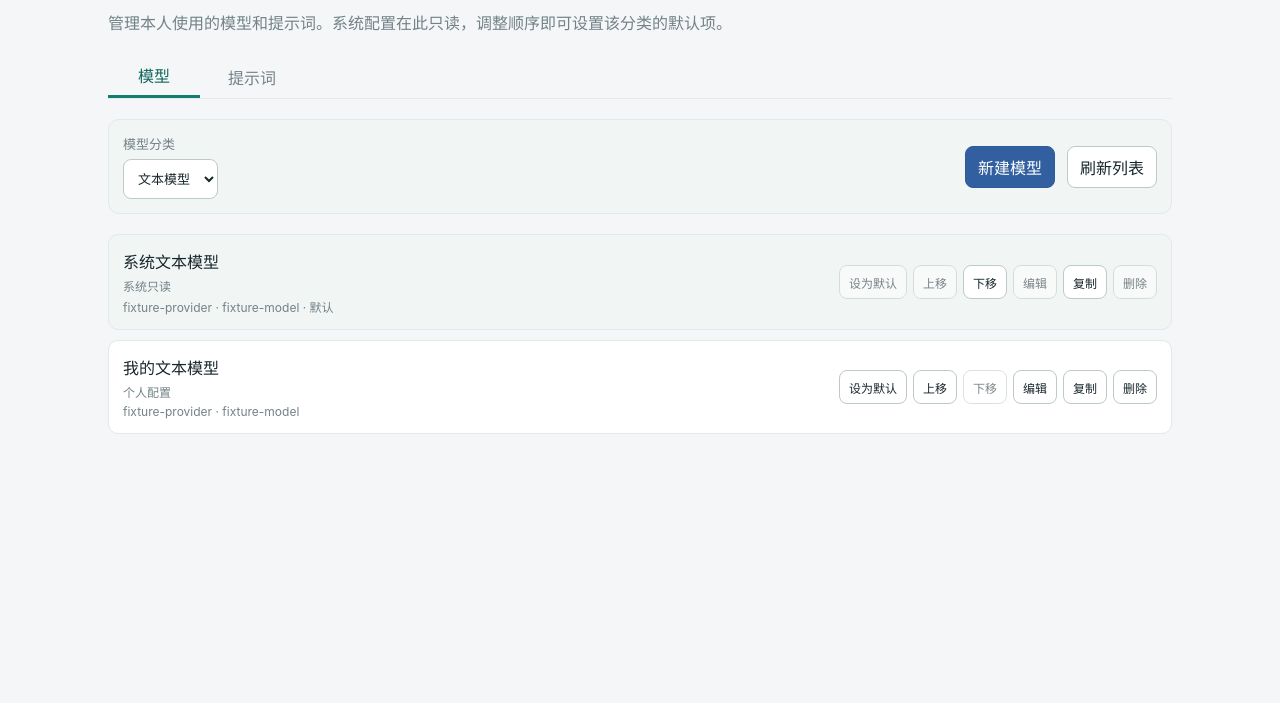
Test: creator settings › keeps system and other-user models read-only and sends only changed fields
expect the text "我的文本模型" is shown: met, box [123,358,219,378]
expect the text "系统文本模型" is shown: met, box [123,252,219,272]
Click the button "编辑" in the row of "我的文本模型" at (1035, 387), box [1013,370,1057,404]
(page scrolled)
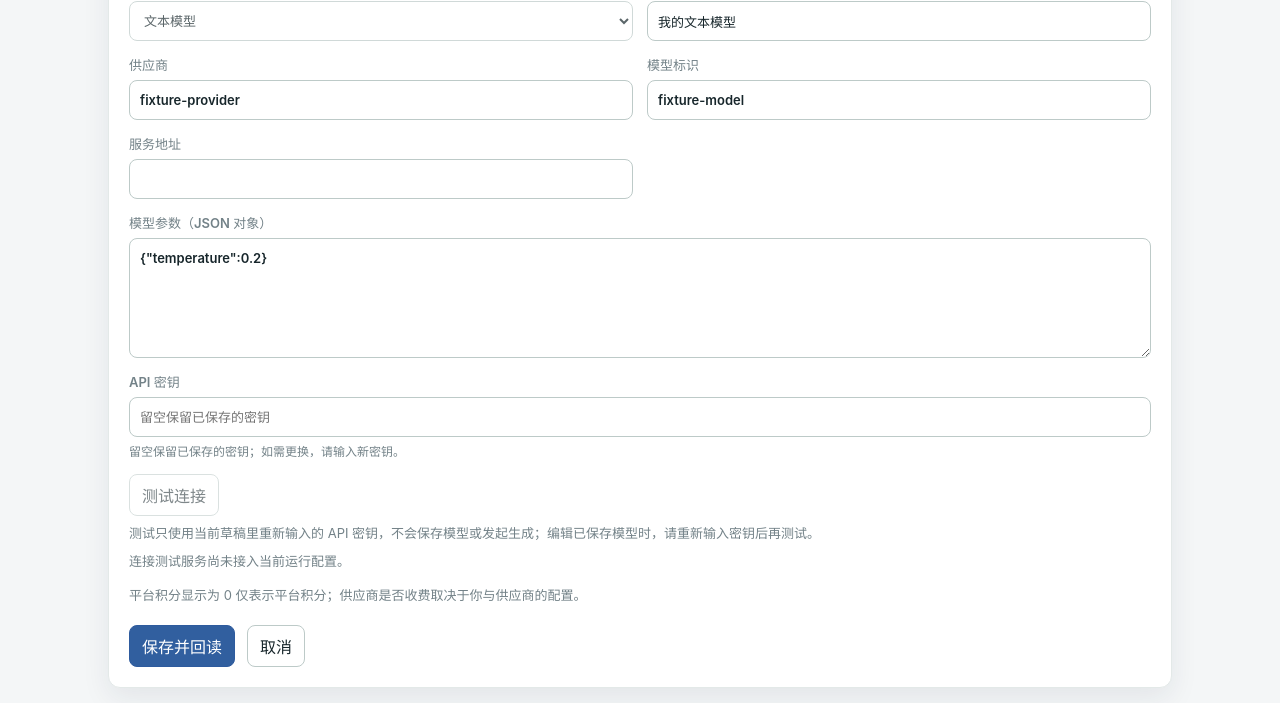
expect the password field labelled "API 密钥" is empty: met, box [129,397,1151,437]
Click the button "保存并回读" at (182, 646), box [129,625,235,667]
(page scrolled)
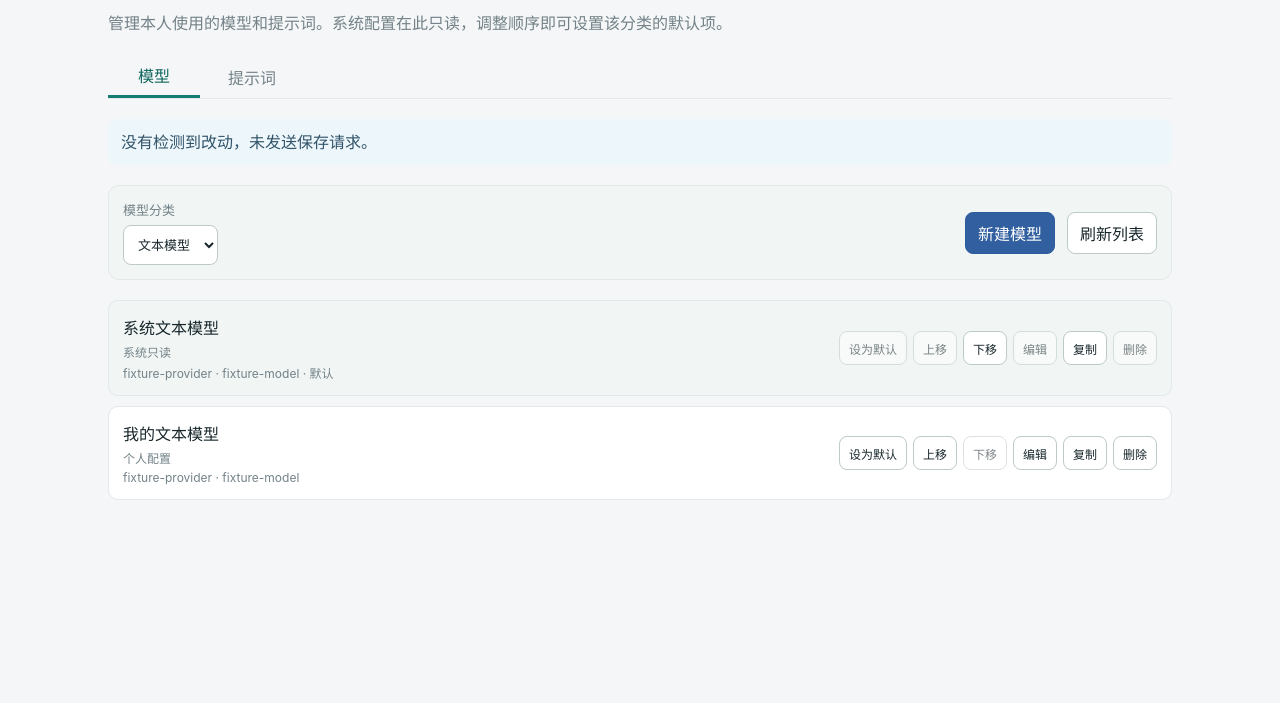
expect the text "没有检测到改动，未发送保存请求。" is shown: met, box [108,119,1172,165]
Click the button "编辑" in the row of "我的文本模型" at (1035, 453), box [1013,436,1057,470]
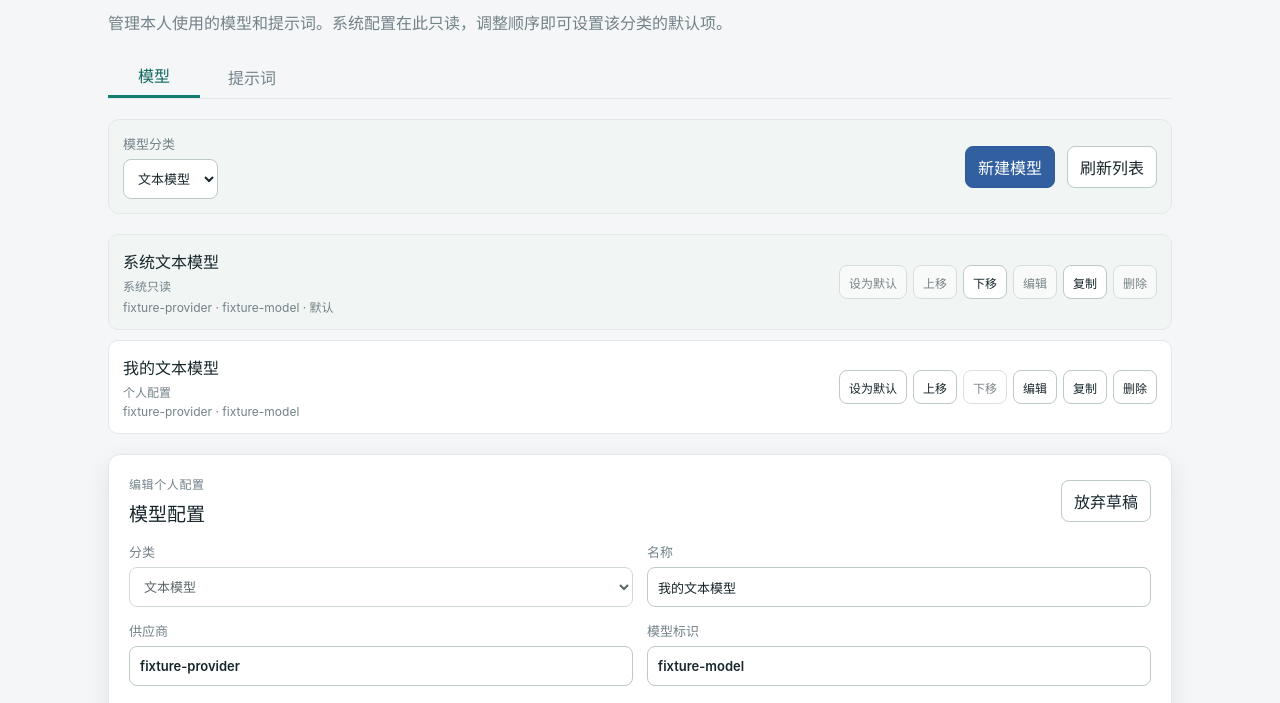
Replace the text in the field labelled "名称" with "更新后的模型" at (899, 587), box [647,567,1151,607]
(page scrolled)
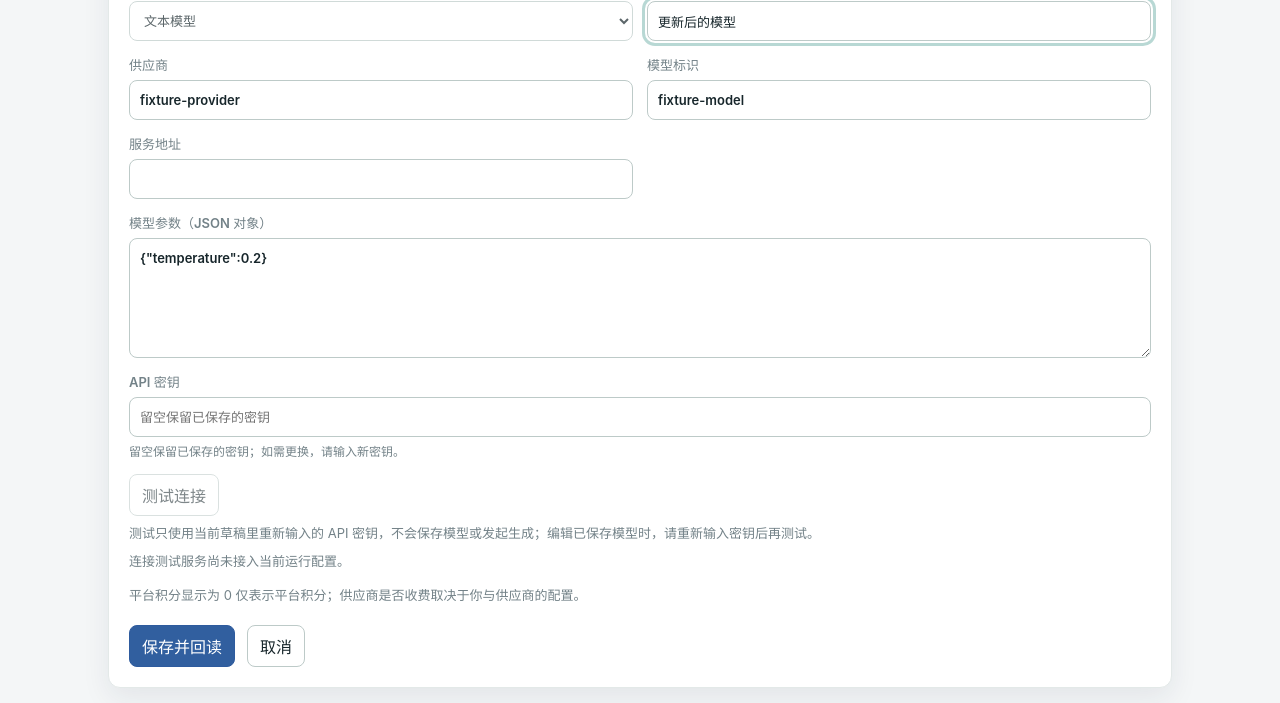
Click the button "保存并回读" at (182, 646), box [129,625,235,667]
(page scrolled)
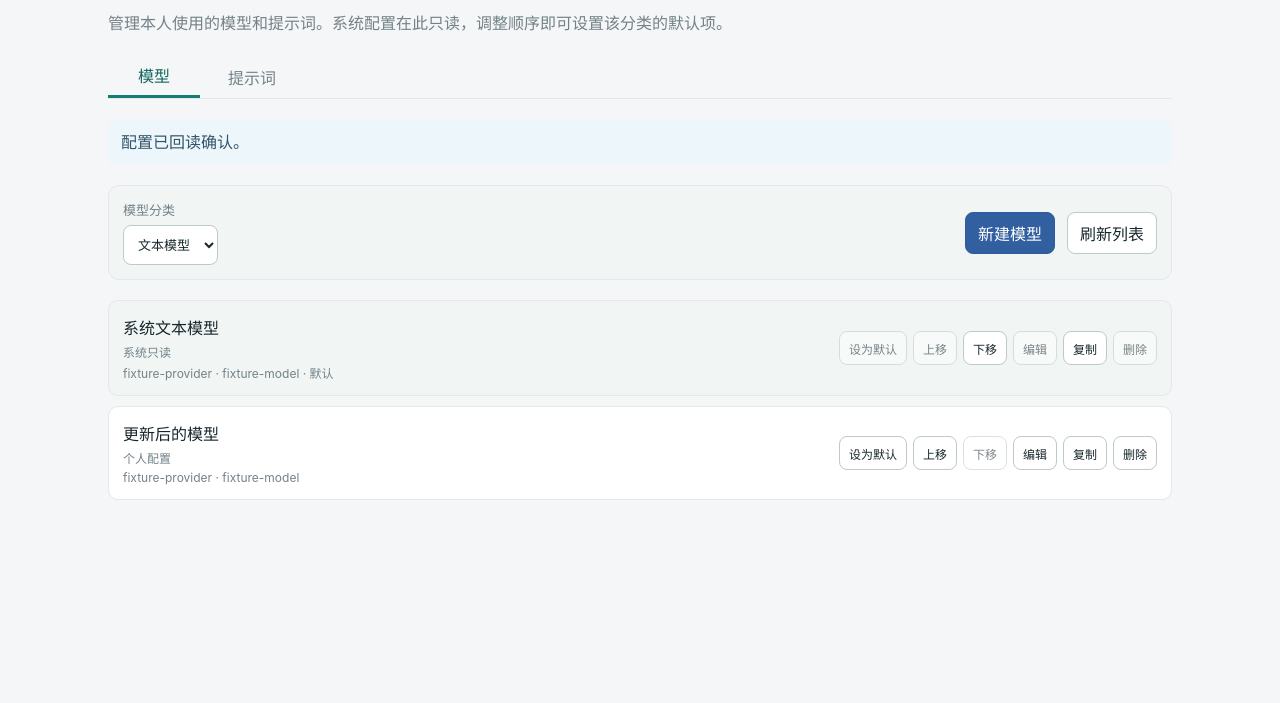
expect the text "配置已回读确认。" is shown: met, box [108,119,1172,165]
